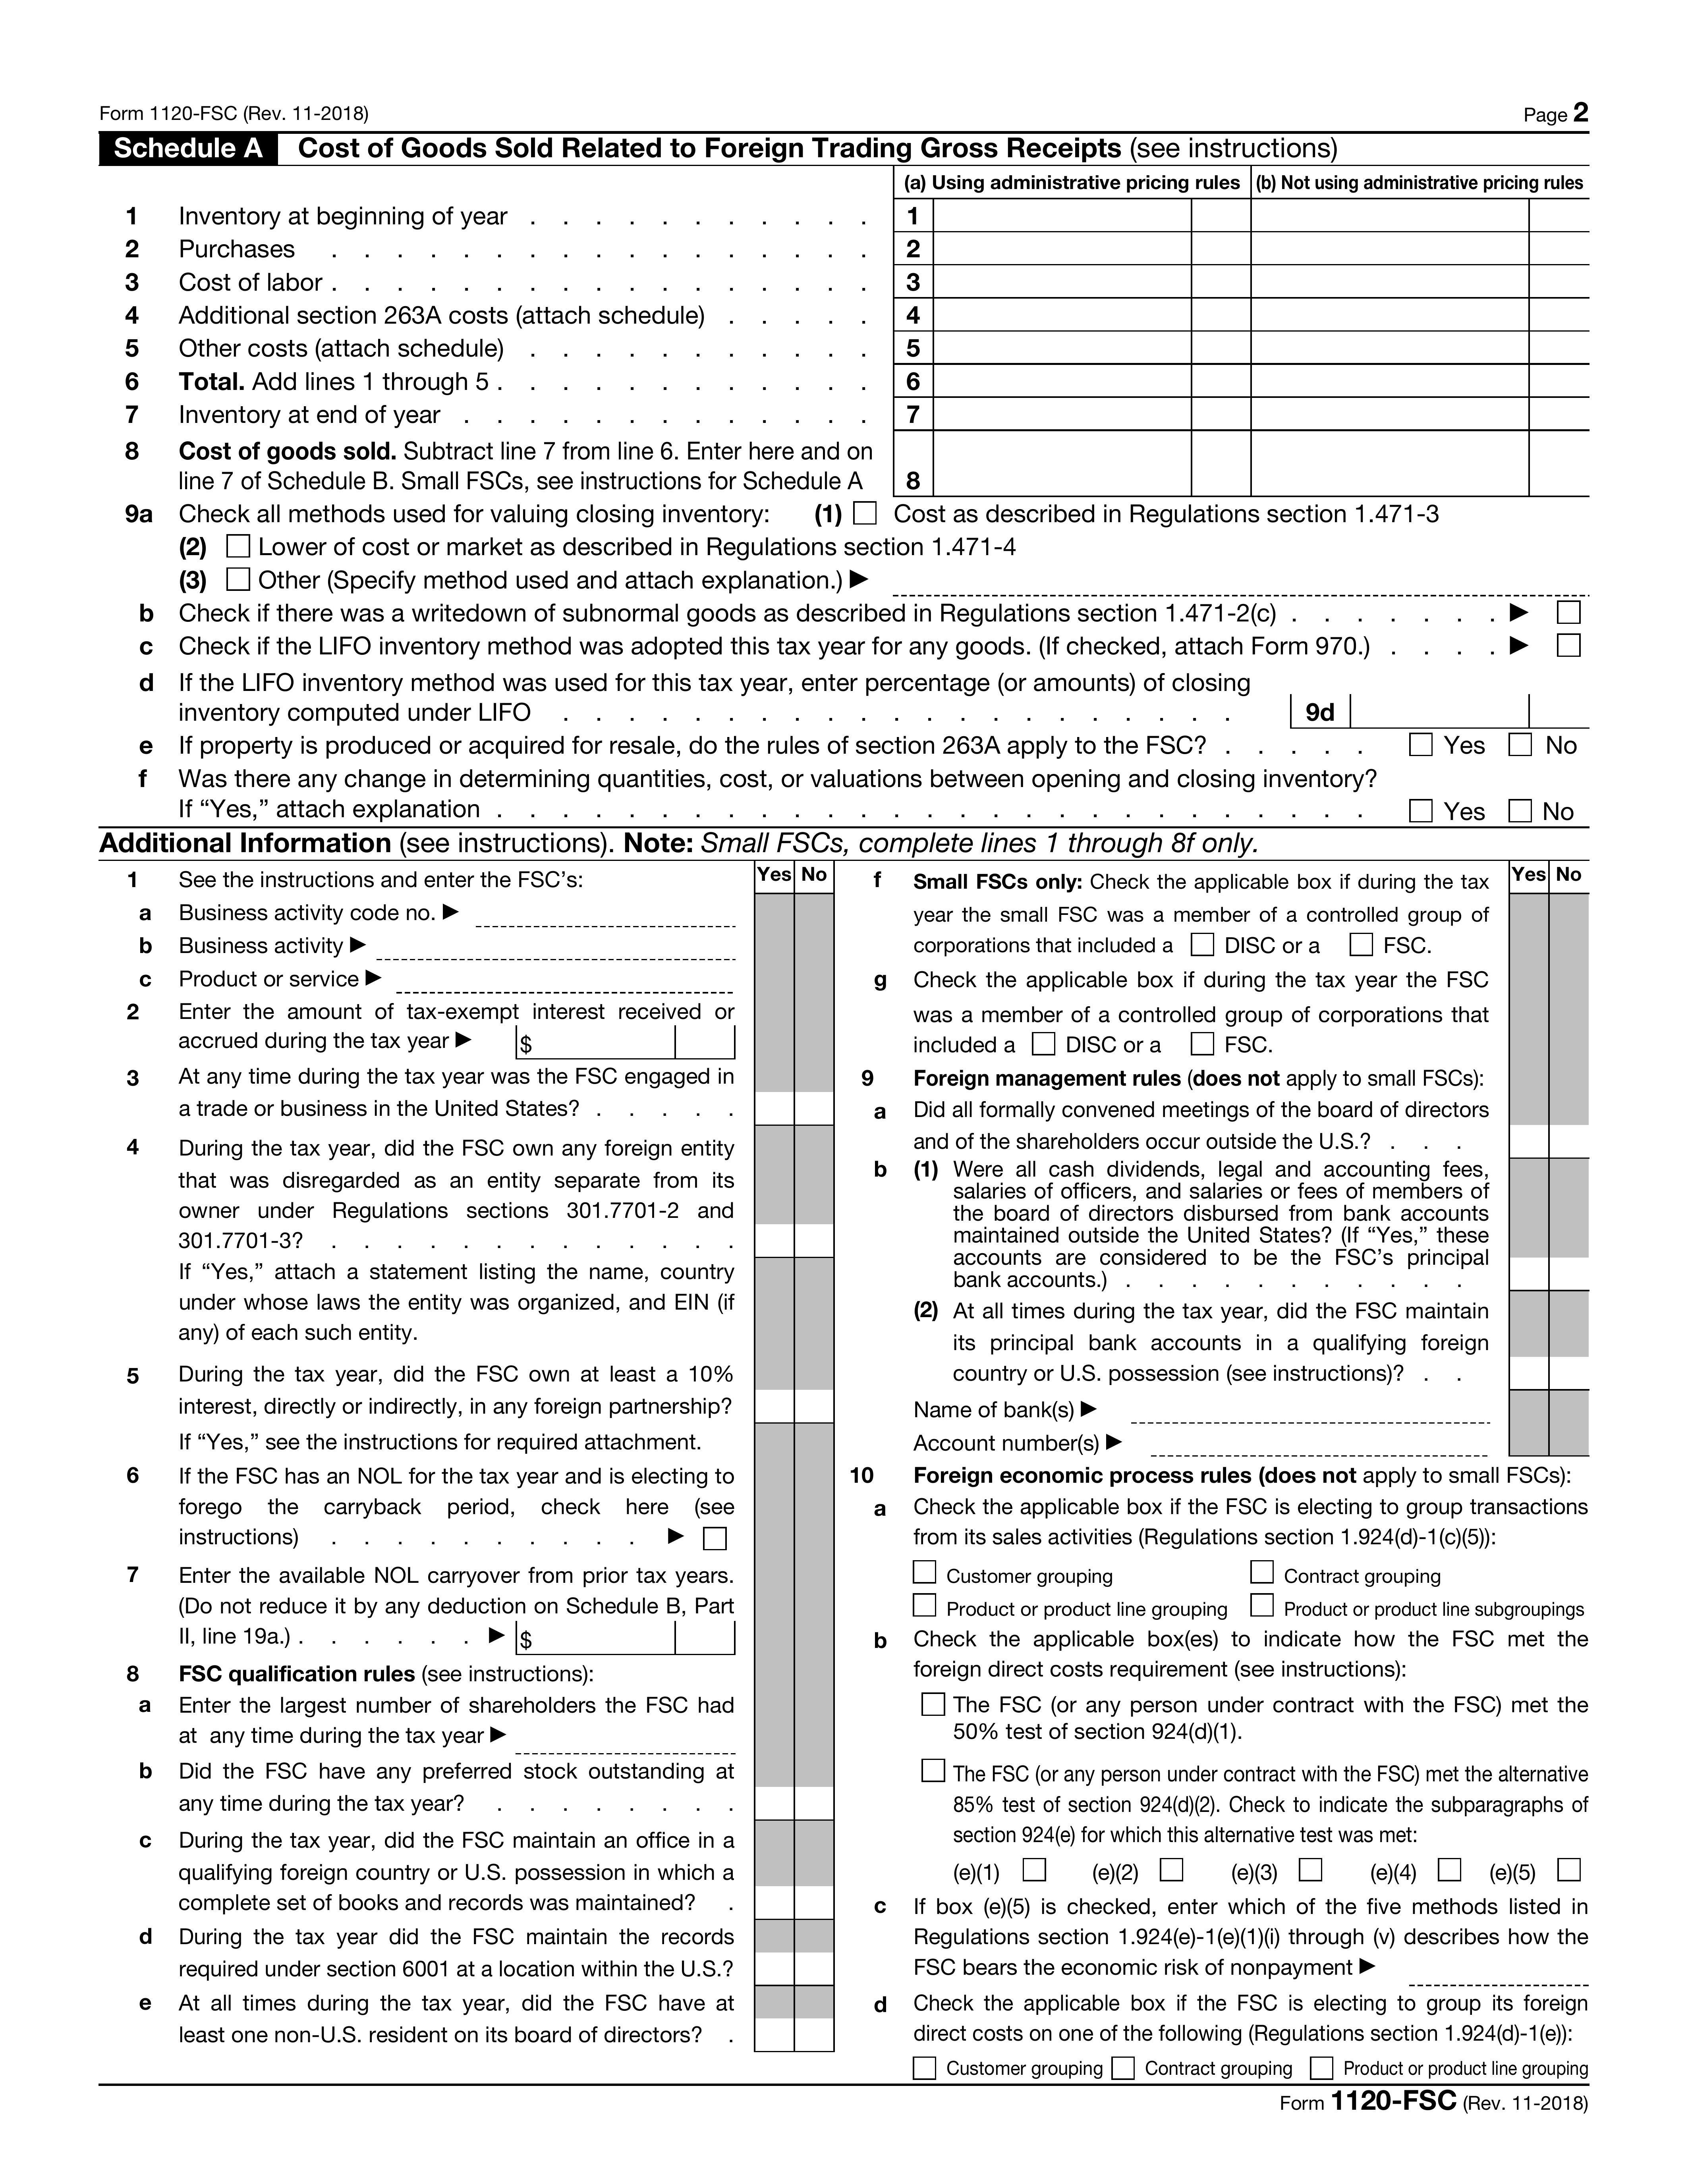table: (105, 167, 1606, 824), (113, 862, 840, 2063), (849, 860, 1598, 1461)
